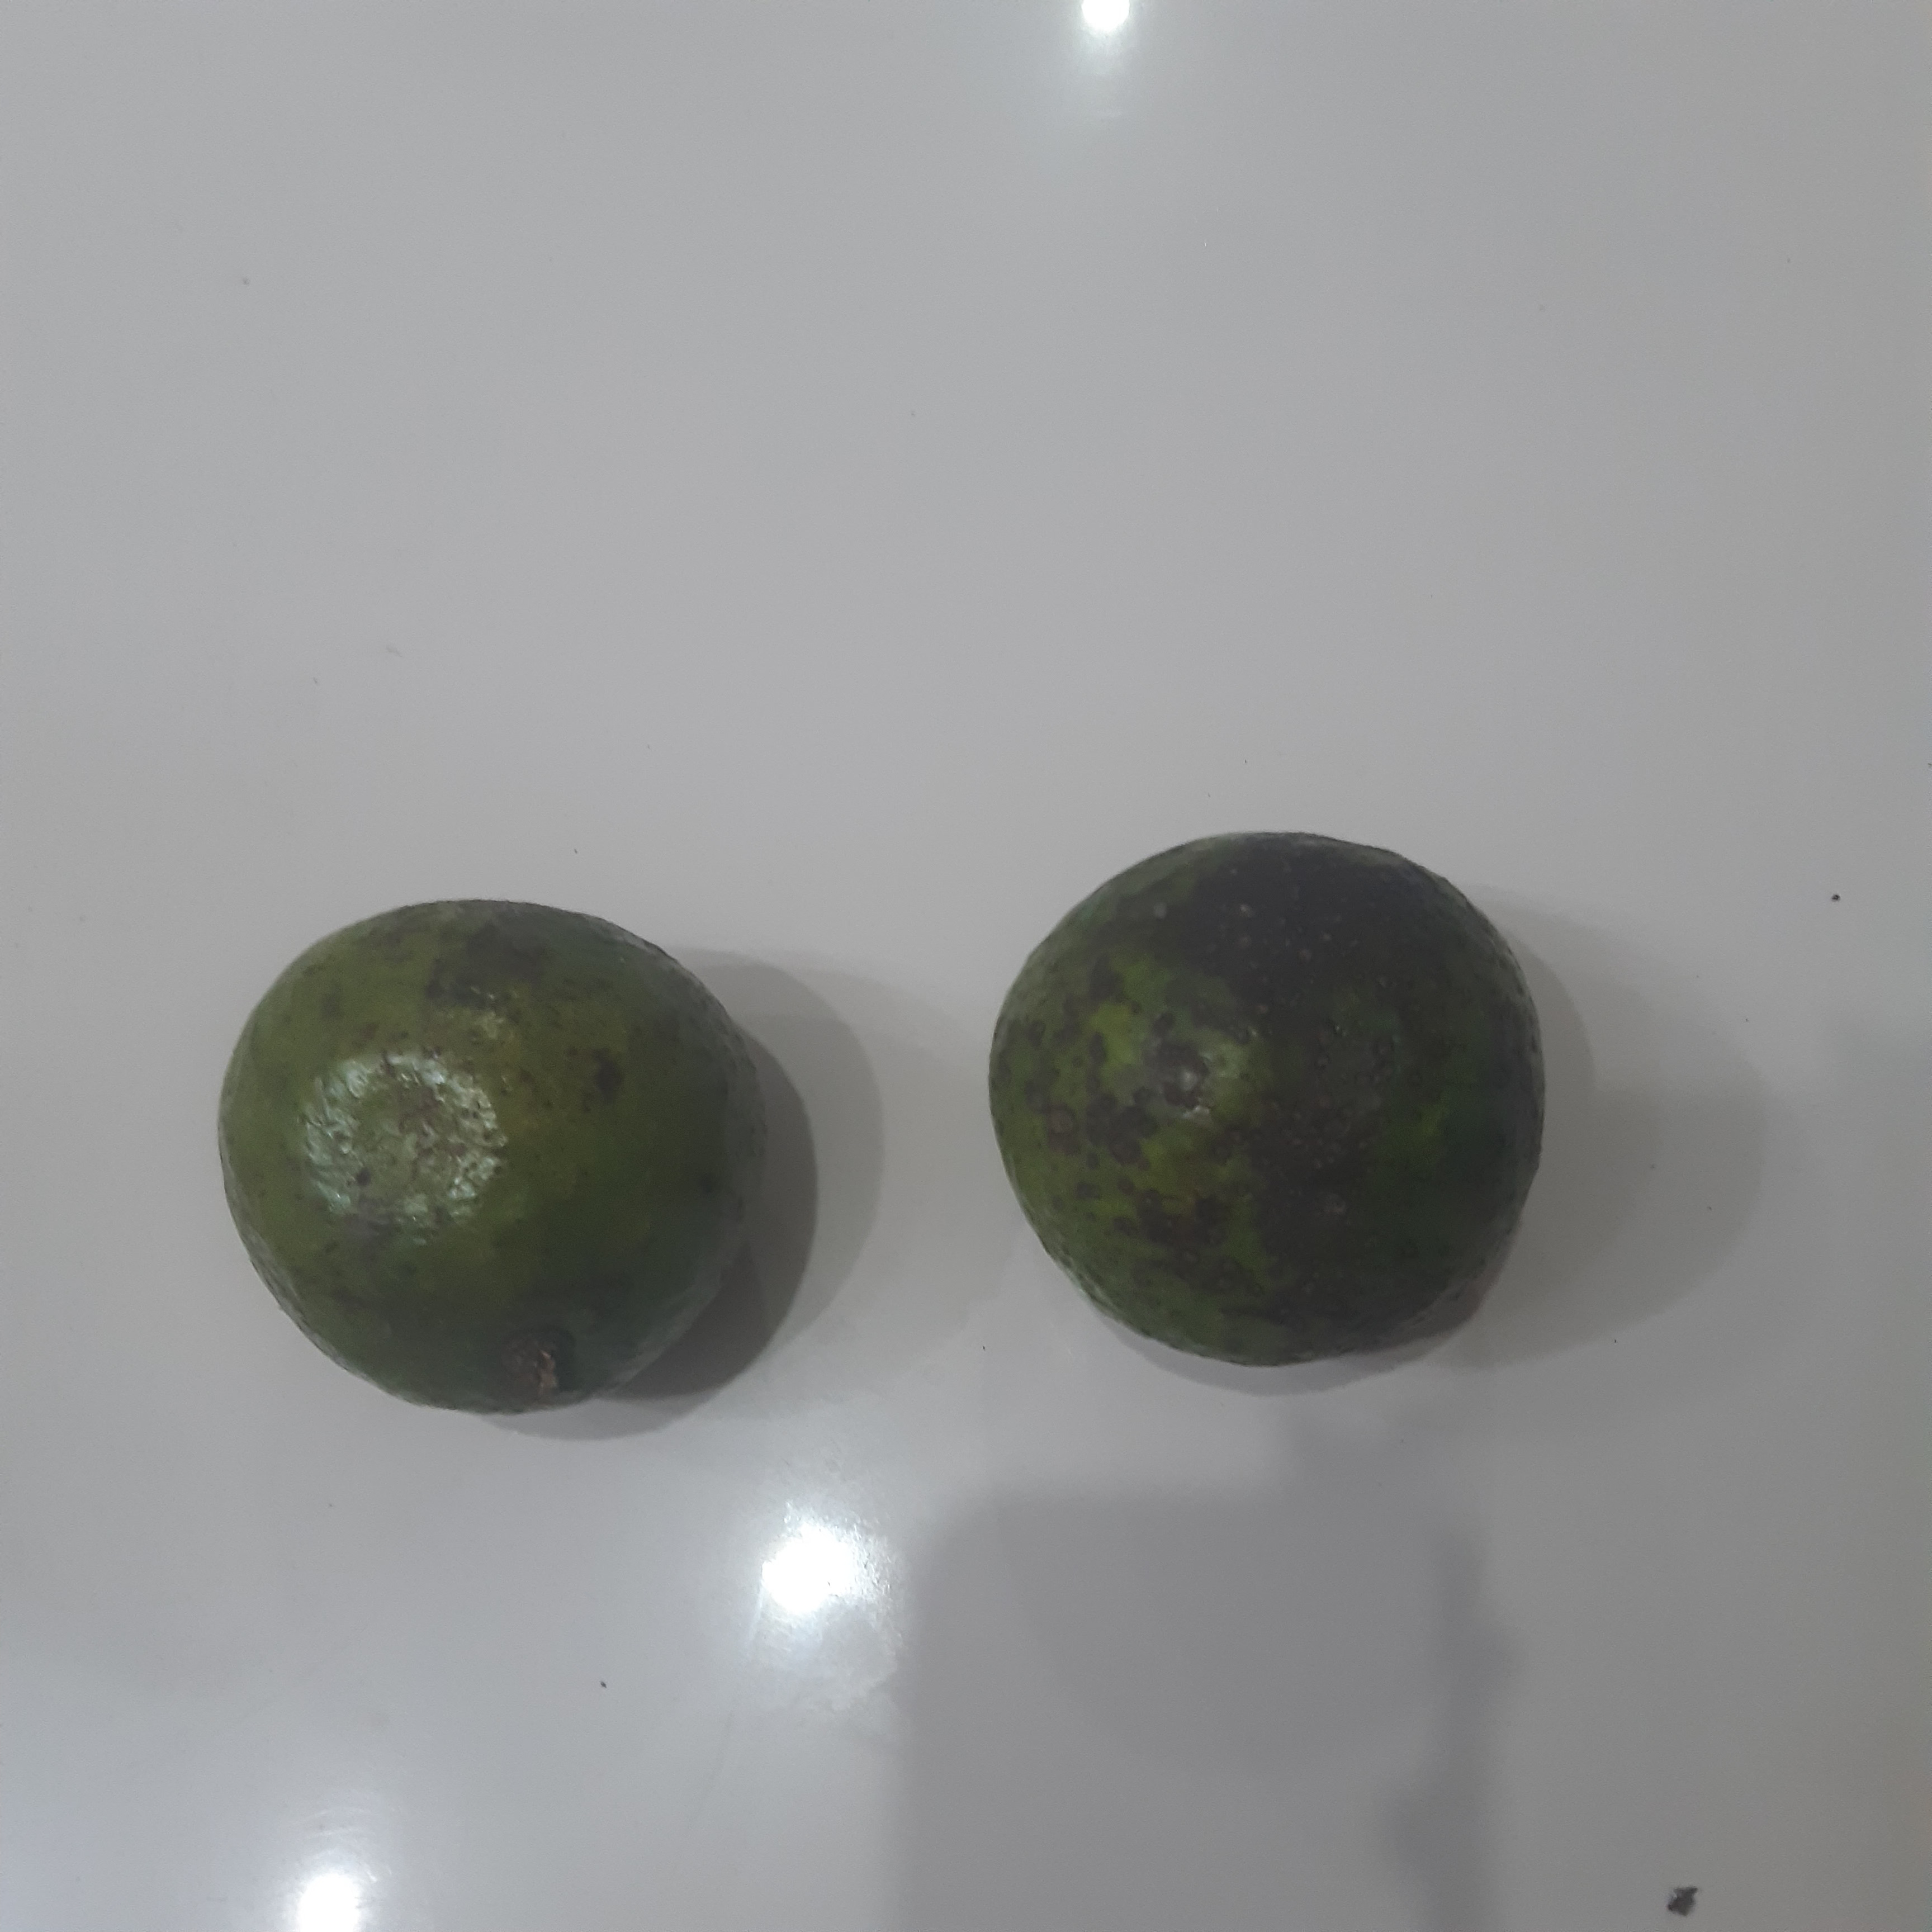Bo: (987, 824, 1537, 1366), (216, 895, 771, 1426)
